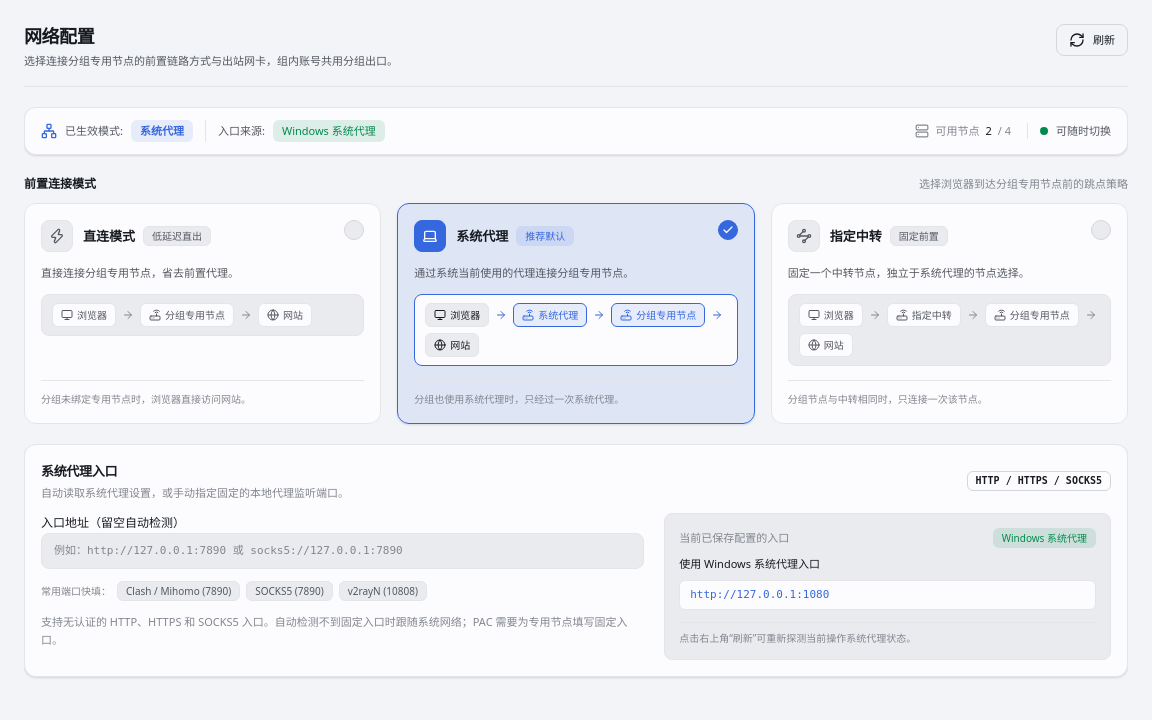
Scenario: keeps newly read and refreshed system entry information when editing a draft
Expected: the text "http://127.0.0.1:1080" is shown, [690,588,829,601]
In the field labelled "入口地址（留空自动检测）": (343, 551) [41,533,644,569], type "http://127.0.0.1:7891"
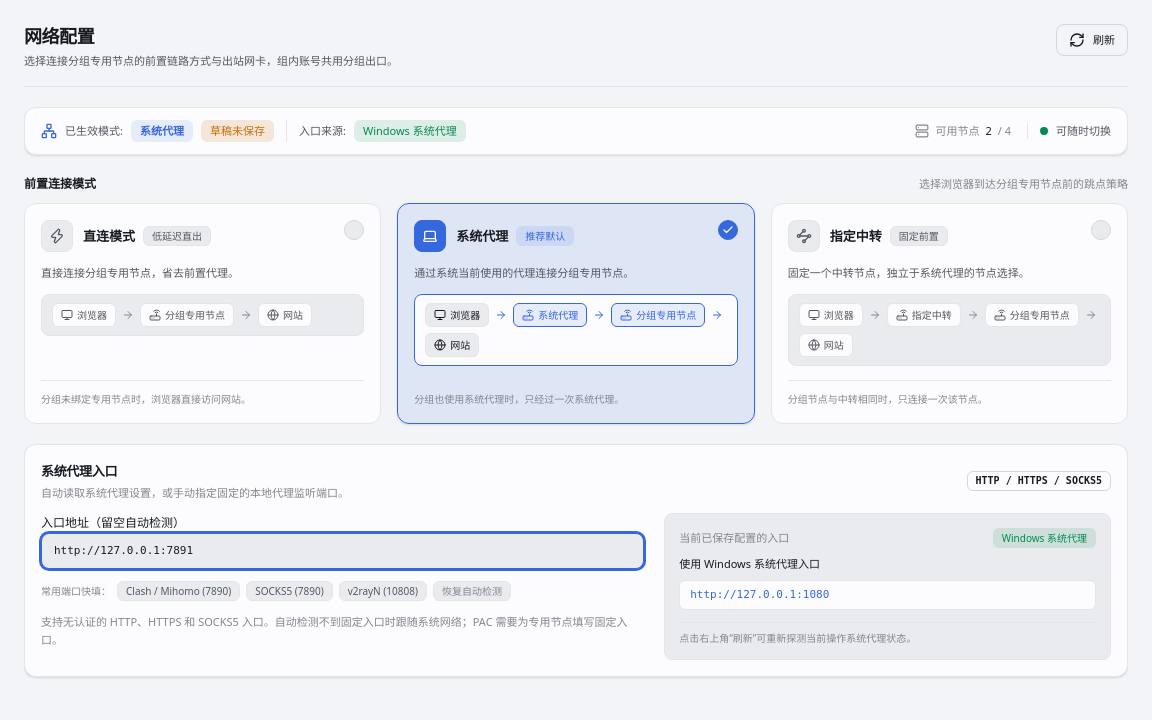
Expected: the text "http://127.0.0.1:1080" is shown, [690,588,829,601]
Click the button "刷新": (1092, 40) [1056,24,1128,56]
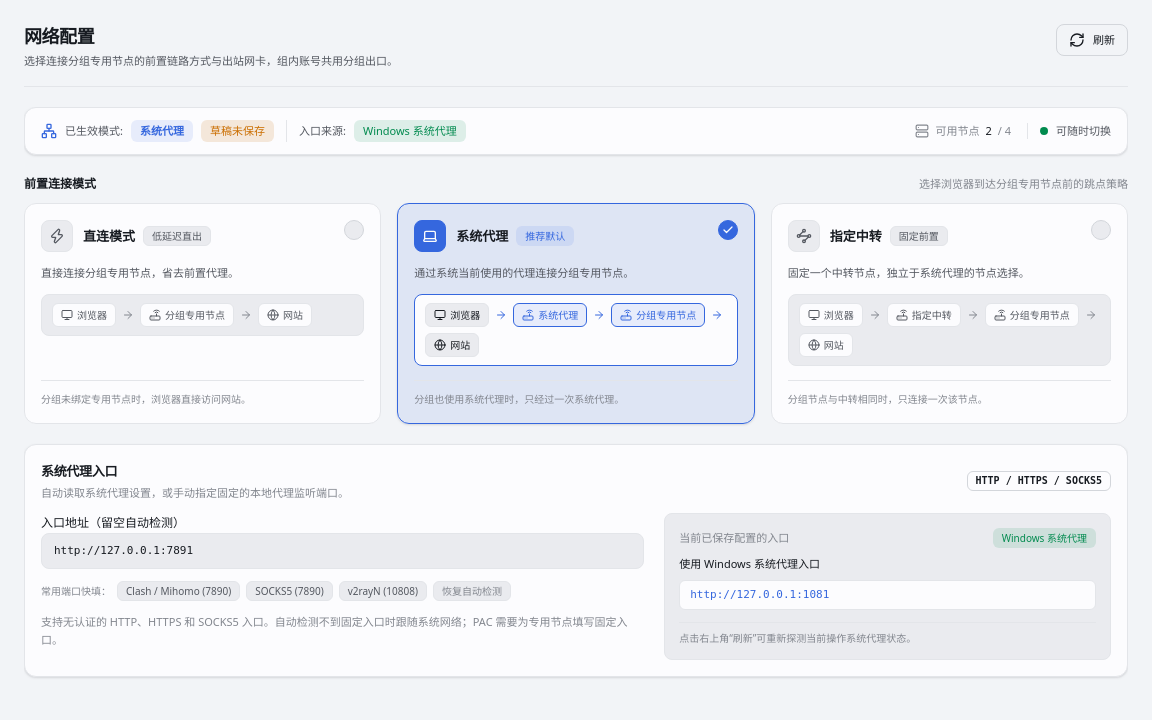
Expected: the text "http://127.0.0.1:1081" is shown, [690,588,829,601]
